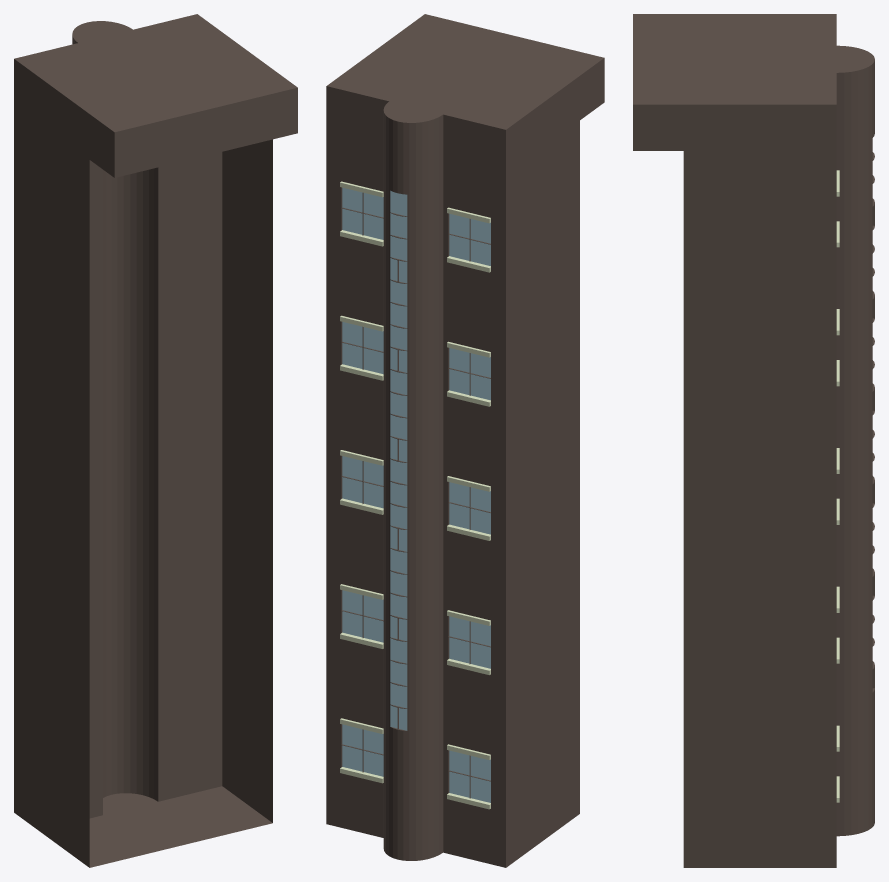
The model's file is B6-Pipe.glb.
3 views of the same model, side by side, from view 1: azimuth 30°, elevation 25°; view 2: azimuth 150°, elevation 25°; view 3: azimuth 270°, elevation 25° (orthographic). The views are drawn at different scales.
Visible parts, largest first — view 1: B6-Pipe; view 2: B6-Pipe; view 3: B6-Pipe.
Boxes of the visible parts, left/top/right/bottom form: B6-Pipe: left=14, top=14, right=297, bottom=867; B6-Pipe: left=326, top=14, right=604, bottom=867; B6-Pipe: left=633, top=14, right=874, bottom=867.
Bounding box in the file's own units: 42 × 165 × 47.4.
